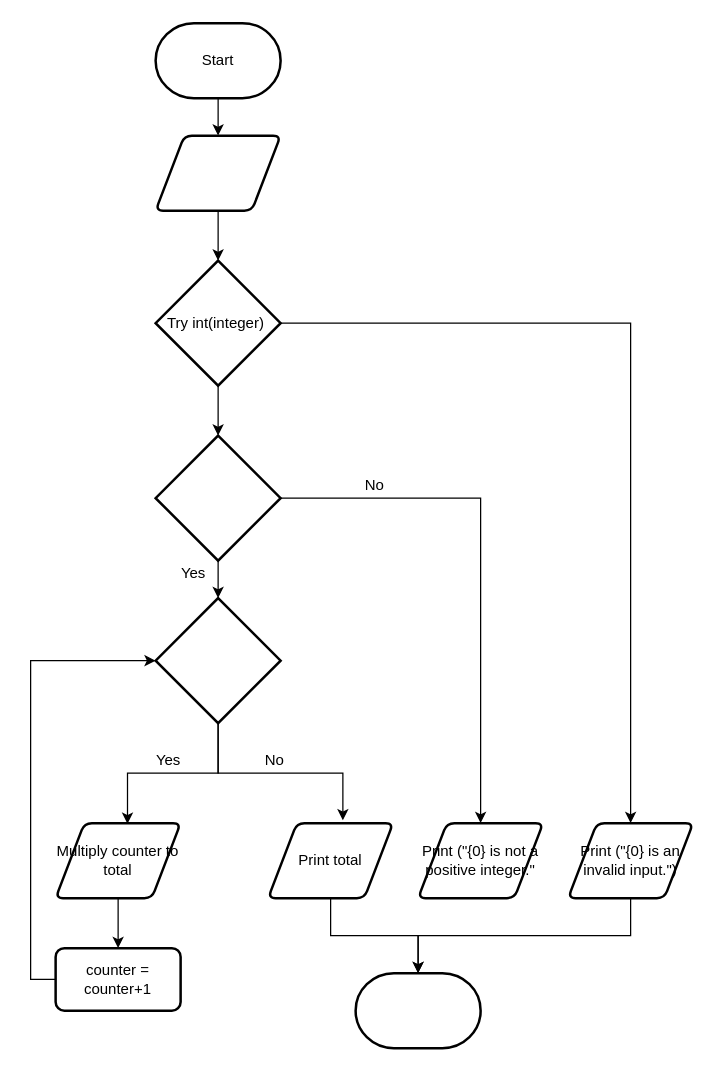
This 716x1070 diagram has some shape labels left out. Here are the shapes that lost their labels. From the top down, the box of each, then its label:
(154, 134, 281, 211): Get integer
(154, 434, 281, 561): if integer => 0
(154, 596, 281, 724): While counter <= integer
(354, 971, 481, 1049): Stop
